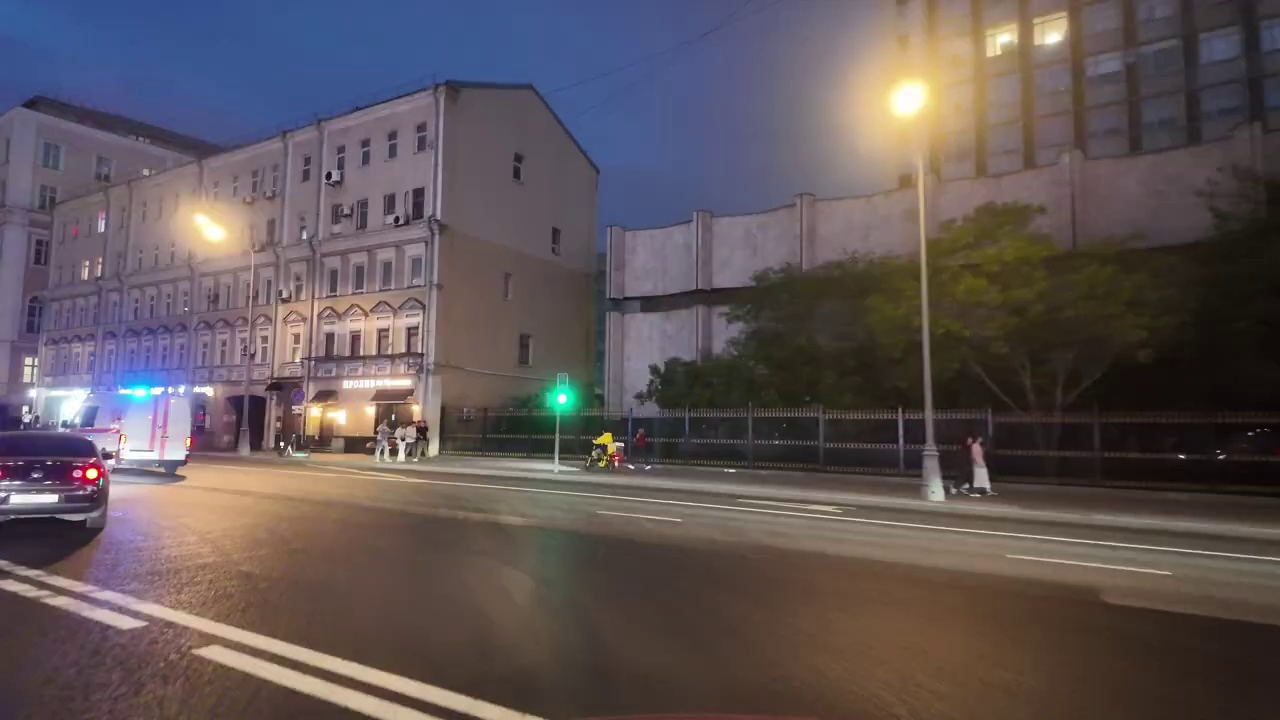acesa: (878, 70, 939, 131), (188, 211, 233, 249)
